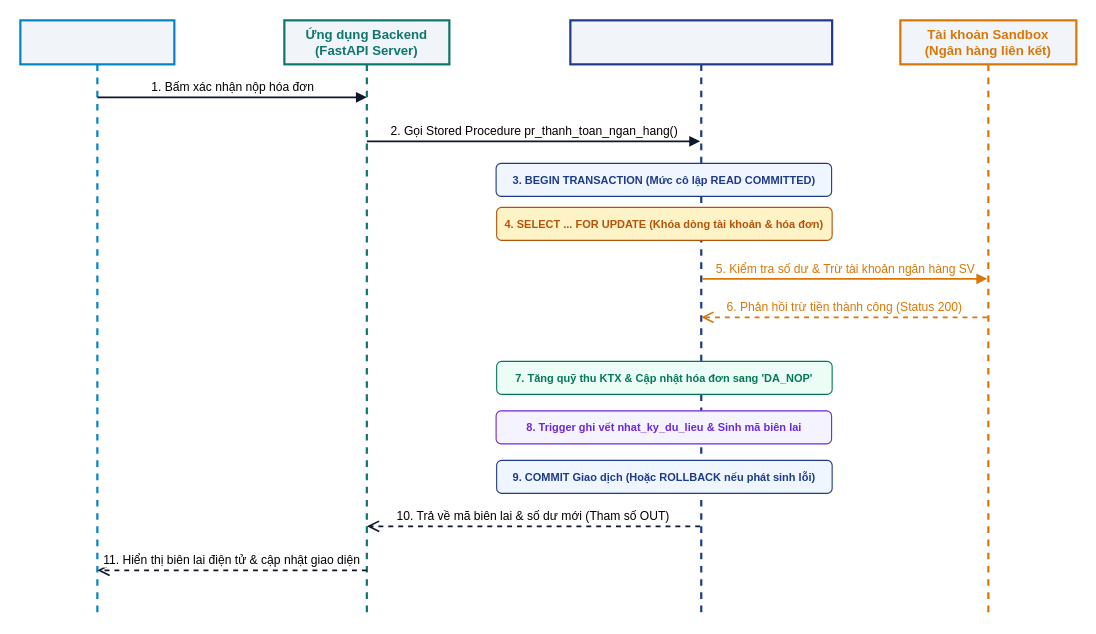
This 1096x634 diagram has some shape labels left out. The box of each missing label's shape, as (x1, y1, x2, y2) in pixels:
Hệ QTCSDL PostgreSQL (Transaction Engine): (569, 19, 833, 615)
Sinh viên (Client): (19, 19, 175, 615)
